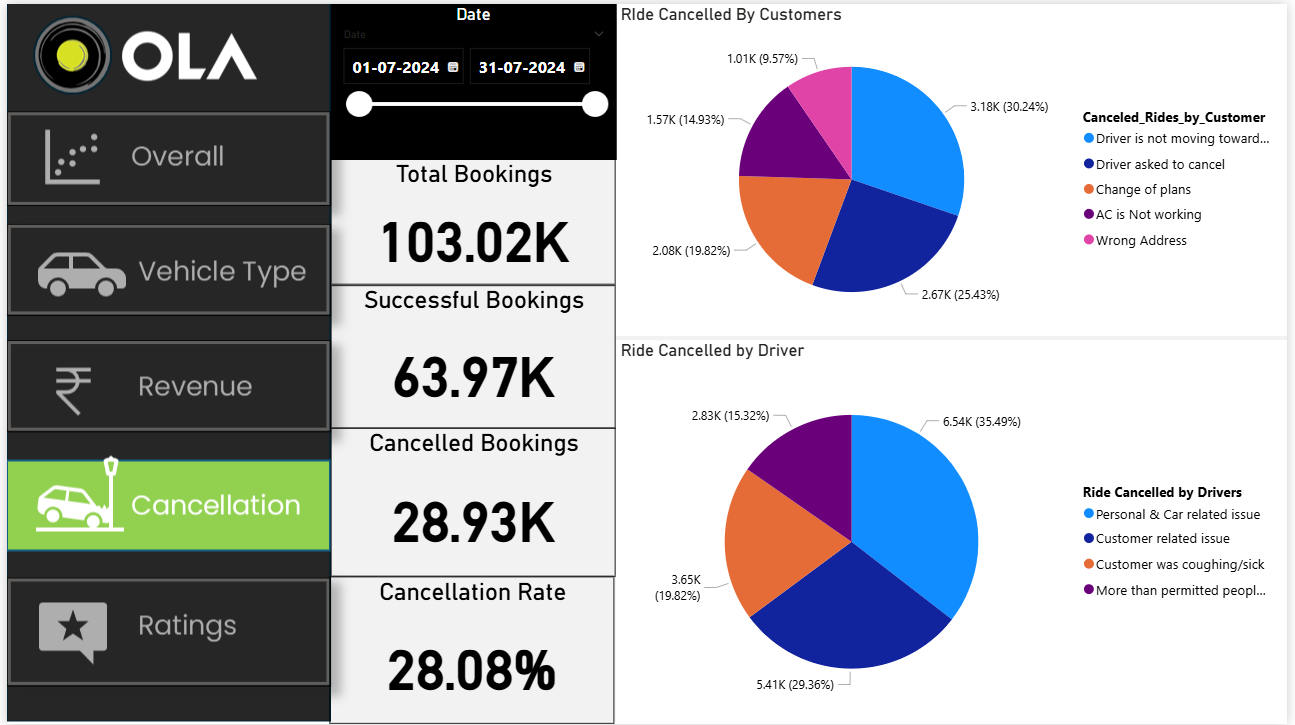

This screenshot's page, from the dashboard's own definition file:
{"tool":"powerbi","page":{"name":"Cancellation","canvas":[1280,720],"ordinal":3},"visuals":[{"type":"actionButton","box":[0,219.6,323.8,91.9],"z":0},{"type":"actionButton","box":[0,336.2,323.8,91.9],"z":1000},{"type":"actionButton","box":[0,573.6,323.8,108.4],"z":2000},{"type":"actionButton","box":[0,107,323.8,94.7],"z":3000},{"type":"pieChart","title":"RIde Cancelled By Customers","fields":{"Category":["Bookings.Canceled_Rides_by_Customer"],"Y":["CountNonNull(Bookings.Canceled_Rides_by_Customer)"]},"box":[609.3,0,671,332.1],"z":4000},{"type":"pieChart","title":"Ride Cancelled by Driver","fields":{"Category":["Bookings.Canceled_Rides_by_Driver"],"Y":["CountNonNull(Bookings.Canceled_Rides_by_Driver)"]},"box":[609.3,336.2,671,384.2],"z":5000},{"type":"slicer","title":"Date","fields":{"Values":["Bookings.Date"]},"box":[323.8,0,285.4,155.1],"z":6000},{"type":"card","title":"Total Bookings","fields":{"Values":["CountNonNull(Bookings.Booking_Status)"]},"box":[324.3,155.4,285.1,125.7],"z":7000},{"type":"card","title":"Successful Bookings","fields":{"Values":["CountNonNull(Bookings.Booking_Status)"]},"box":[324.3,281.1,285.1,143.2],"z":8000},{"type":"card","title":"Cancelled Bookings","fields":{"Values":["CountNonNull(Bookings.Booking_Status)"]},"box":[324.3,424.3,285.1,148.6],"z":9000},{"type":"card","title":"Cancellation Rate","fields":{"Values":["Bookings.Cancellation_Rate"]},"box":[323,573,285.1,147.3],"z":10000}]}

Visuals, with their boxes in screenshot pixels (x1, y1, x2, y2), scaled from the page's 1280x720 canvas onto the 1295x725 screenshot:
actionButton: region(0, 221, 328, 314)
actionButton: region(0, 339, 328, 431)
actionButton: region(0, 578, 328, 687)
actionButton: region(0, 108, 328, 203)
"RIde Cancelled By Customers" pieChart: region(616, 0, 1294, 334)
"Ride Cancelled by Driver" pieChart: region(616, 339, 1294, 724)
"Date" slicer: region(328, 0, 616, 156)
"Total Bookings" card: region(328, 156, 617, 283)
"Successful Bookings" card: region(328, 283, 617, 427)
"Cancelled Bookings" card: region(328, 427, 617, 577)
"Cancellation Rate" card: region(327, 577, 615, 724)
